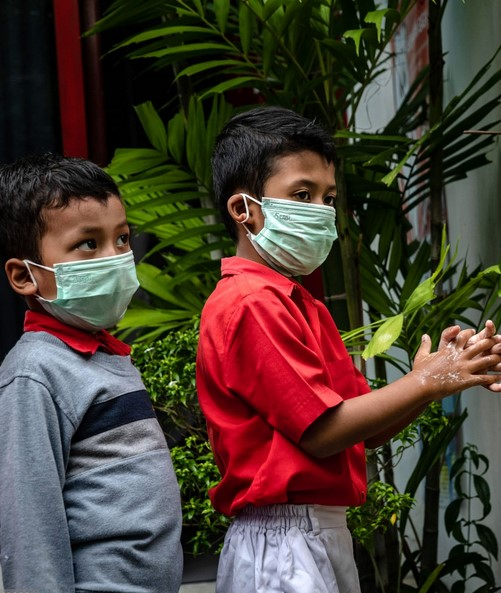face_with_mask: (3, 171, 145, 338), (222, 115, 339, 275)
